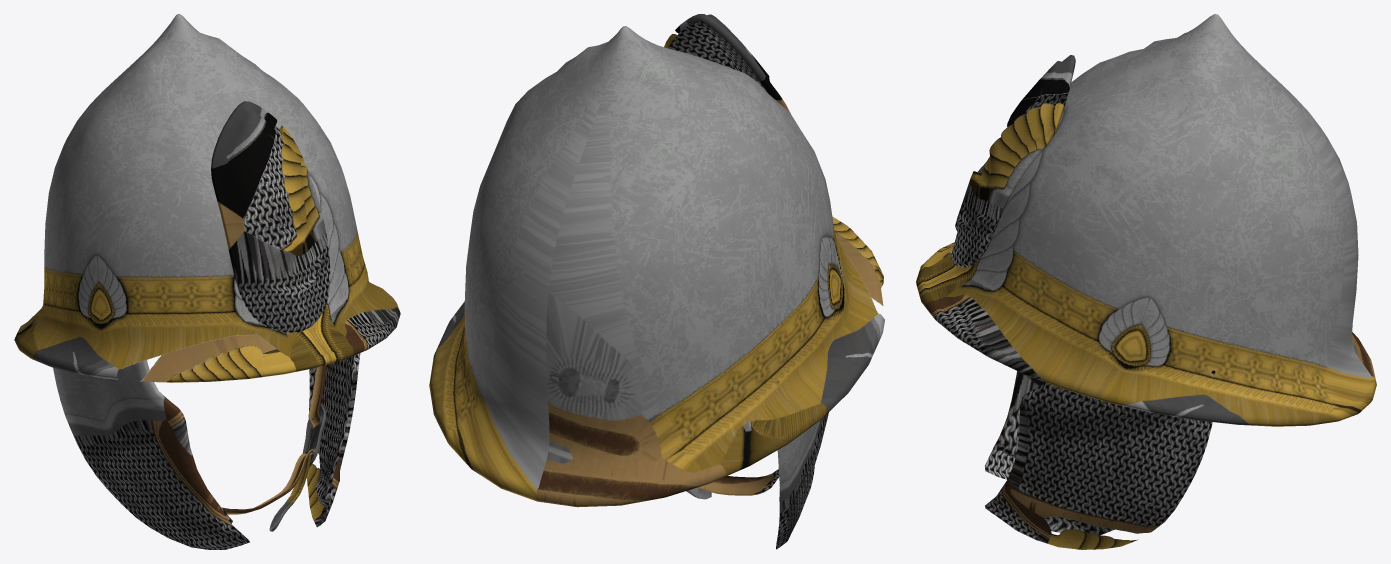
Rendered from pelargirmarine_helmet_6_a.fbx.
3 renders of one model, left to right at view 1: azimuth 30°, elevation 25°; view 2: azimuth 150°, elevation 25°; view 3: azimuth 270°, elevation 25°, orthographic. The views are drawn at different scales.
Parts seen in each view (by area): view 1: pelargirmarine_helmet_6_a.0; view 2: pelargirmarine_helmet_6_a.0; view 3: pelargirmarine_helmet_6_a.0.
Part boxes in pixels (<box>): pelargirmarine_helmet_6_a.0: <box>14,14,400,549</box>; pelargirmarine_helmet_6_a.0: <box>429,14,884,549</box>; pelargirmarine_helmet_6_a.0: <box>916,14,1376,549</box>.
Bounding box in the file's own units: 0.2639 × 0.3046 × 0.3655.
2 materials, 2 textured.
